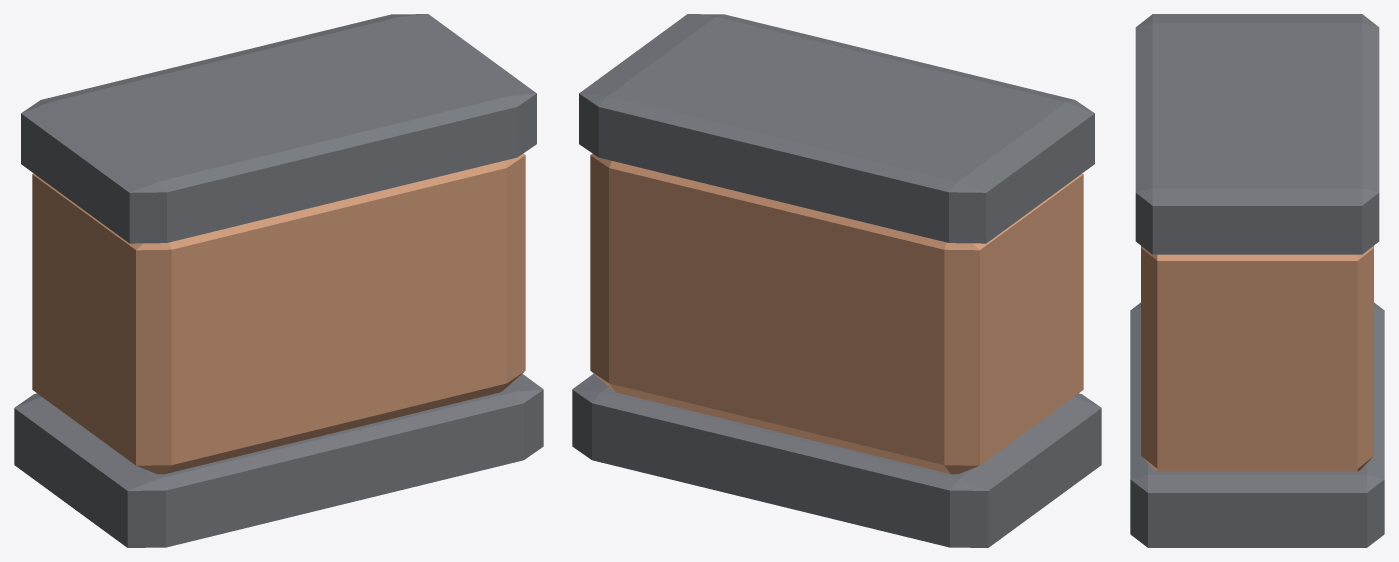
The model's file is b11_elevated_cedar_garden_planter.glb.
3 views of the same model, side by side, from view 1: azimuth 30°, elevation 25°; view 2: azimuth 150°, elevation 25°; view 3: azimuth 270°, elevation 25° (orthographic). The views are drawn at different scales.
Visible parts, largest first — view 1: b11_elevated_cedar_garden_planter; view 2: b11_elevated_cedar_garden_planter; view 3: b11_elevated_cedar_garden_planter.
Boxes of the visible parts, bbox=[...] form: b11_elevated_cedar_garden_planter: bbox=[14, 14, 543, 547]; b11_elevated_cedar_garden_planter: bbox=[572, 14, 1101, 547]; b11_elevated_cedar_garden_planter: bbox=[1130, 14, 1384, 547].
Size of the model in its own units: 1.28 by 1.07 by 0.705.
